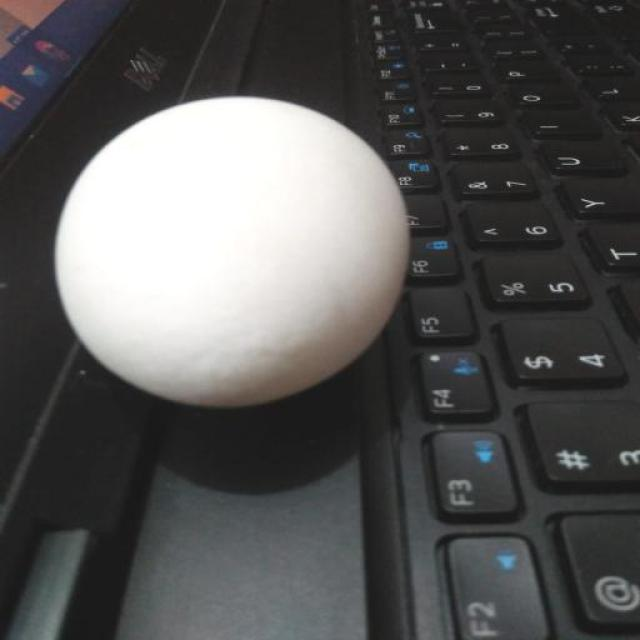telur: (50, 83, 419, 430)
